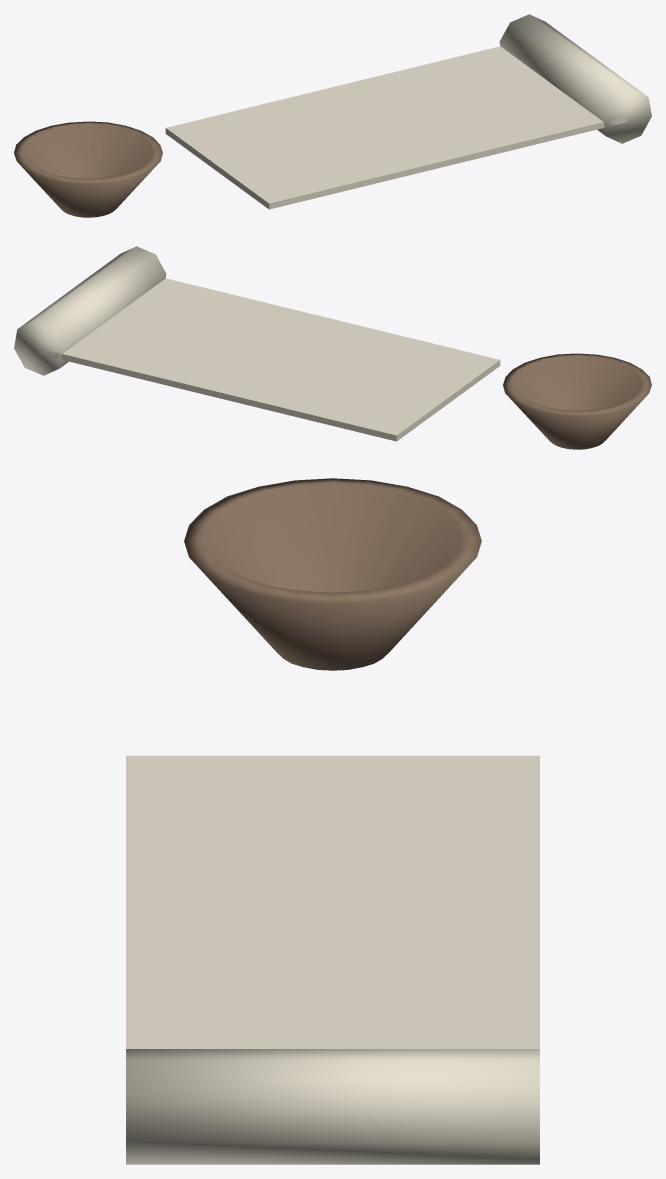
Rendered from tea-bowl-scroll.desktop.glb.
3 renders of one model, top to bottom at view 1: azimuth 30°, elevation 25°; view 2: azimuth 150°, elevation 25°; view 3: azimuth 270°, elevation 25°, orthographic. The views are drawn at different scales.
Parts seen in each view (by area): view 1: SA_T03_MESH_01, SA_T03_MESH_00, SA_T03_MESH_02; view 2: SA_T03_MESH_01, SA_T03_MESH_00, SA_T03_MESH_02; view 3: SA_T03_MESH_01, SA_T03_MESH_02, SA_T03_MESH_00.
Part boxes in pixels (left/top/right/bottom): SA_T03_MESH_01: left=165, top=46, right=627, bottom=209; SA_T03_MESH_00: left=14, top=121, right=162, bottom=217; SA_T03_MESH_02: left=499, top=14, right=651, bottom=143; SA_T03_MESH_01: left=38, top=278, right=500, bottom=441; SA_T03_MESH_00: left=503, top=353, right=651, bottom=449; SA_T03_MESH_02: left=14, top=246, right=166, bottom=375; SA_T03_MESH_01: left=126, top=755, right=539, bottom=1048; SA_T03_MESH_02: left=126, top=1049, right=539, bottom=1164; SA_T03_MESH_00: left=184, top=478, right=481, bottom=670.
Size of the model in its own units: 0.8042 by 0.0962 by 0.25.
Materials: 2 (1 with a texture image).
